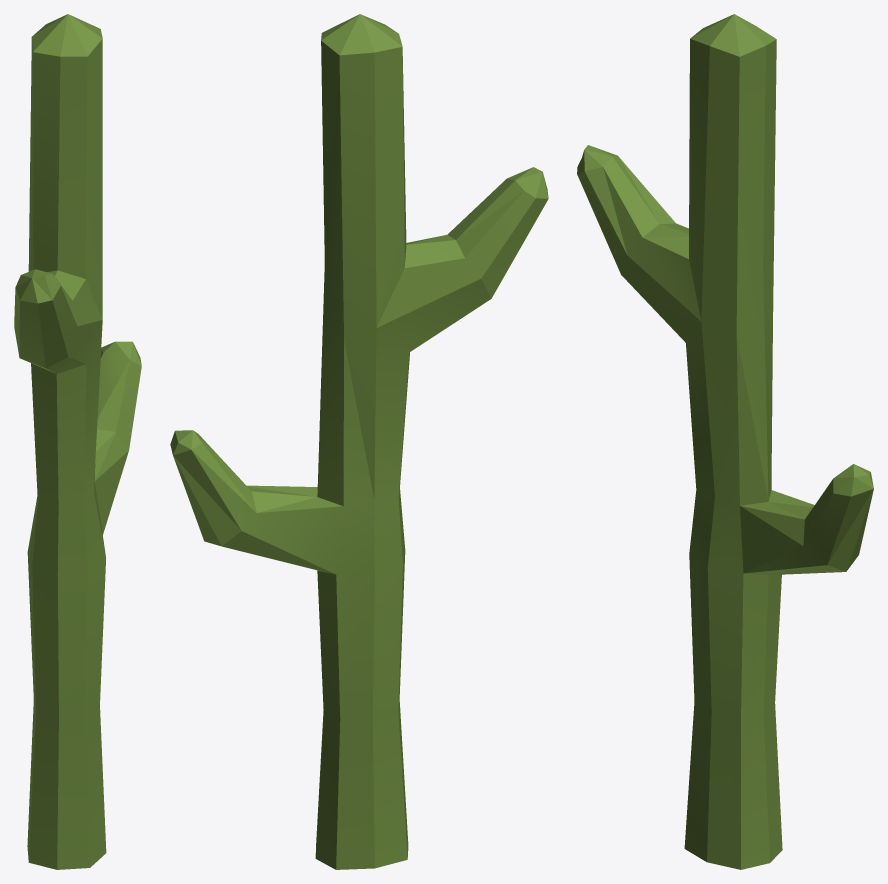
File: cactus_2.fbx
3 views of the same model, side by side, from view 1: azimuth 30°, elevation 25°; view 2: azimuth 150°, elevation 25°; view 3: azimuth 270°, elevation 25° (orthographic).
Parts seen in each view (by area): view 1: EA04_Env_Plants_Cactus_01b; view 2: EA04_Env_Plants_Cactus_01b; view 3: EA04_Env_Plants_Cactus_01b.
Boxes of the visible parts, x1,y1,x2,y2 form: EA04_Env_Plants_Cactus_01b: [14, 14, 141, 869]; EA04_Env_Plants_Cactus_01b: [170, 14, 548, 869]; EA04_Env_Plants_Cactus_01b: [577, 14, 873, 869].
Size of the model in its own units: 102 by 327 by 105.
